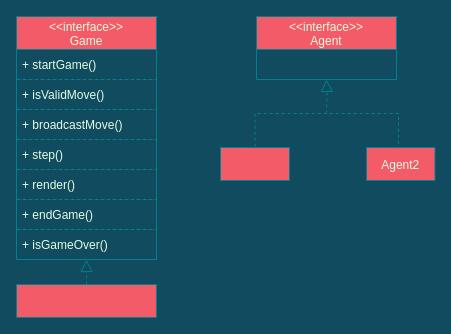
The diagram is 451 pixels wide and 334 high, and some of its shapes have lost their labels. The shapes that lost their labels are listed below. From the top down, each one's box as (x1, y1, x2, y2) in pixels, then its label:
(256, 48, 396, 80): + getMove()
(220, 146, 290, 180): Agent1
(16, 284, 156, 318): TicTacToe Game
